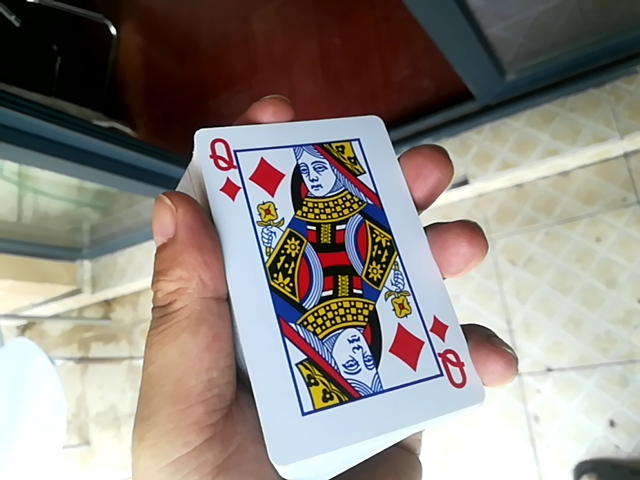fk q: (188, 102, 473, 476)
